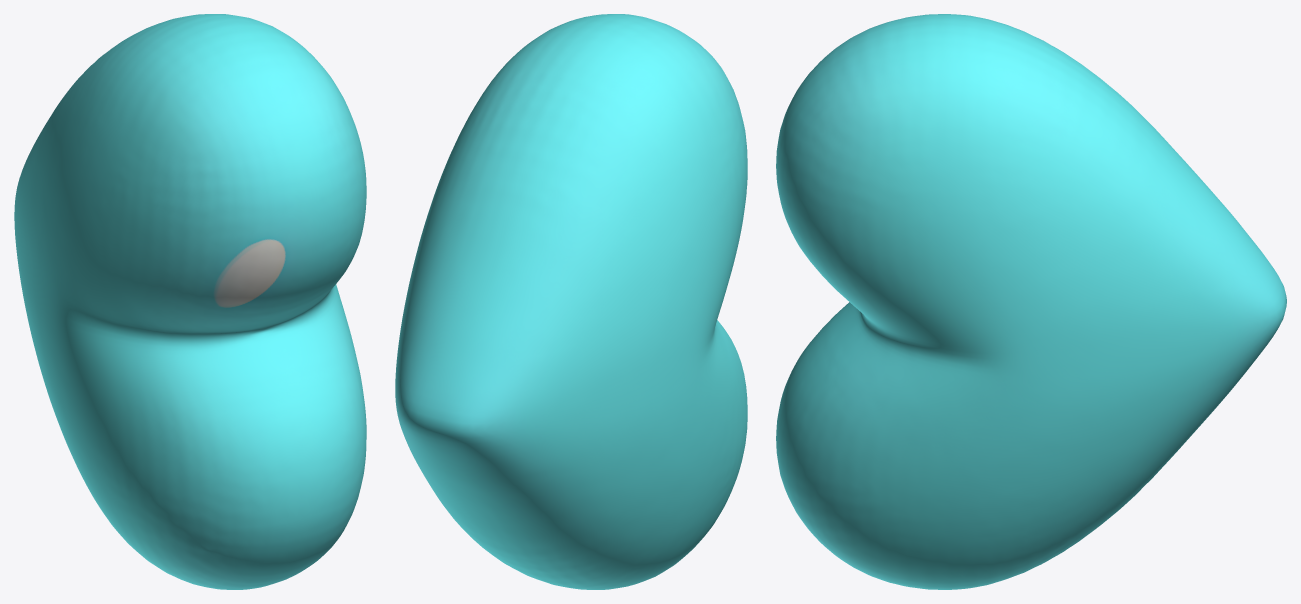
Rendered from BlueHeart.obj.
3 views of the same model, side by side, from view 1: azimuth 30°, elevation 25°; view 2: azimuth 150°, elevation 25°; view 3: azimuth 270°, elevation 25° (orthographic).
Parts seen in each view (by area): view 1: model; view 2: model; view 3: model.
Boxes of the visible parts, x1,y1,x2,y2 form: model: [14, 14, 366, 589]; model: [395, 14, 747, 589]; model: [776, 14, 1286, 589].
Bounding box in the file's own units: 0.9362 × 1.9 × 1.59.
1 material, 1 textured.
